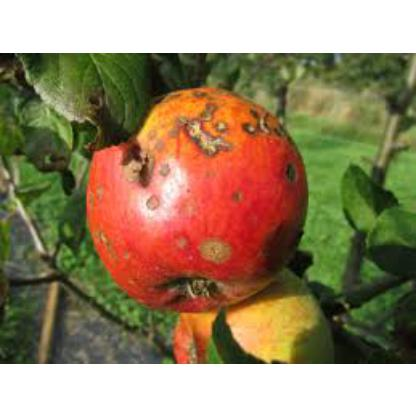damaged_apple: (85, 95, 305, 303), (170, 268, 332, 360)
